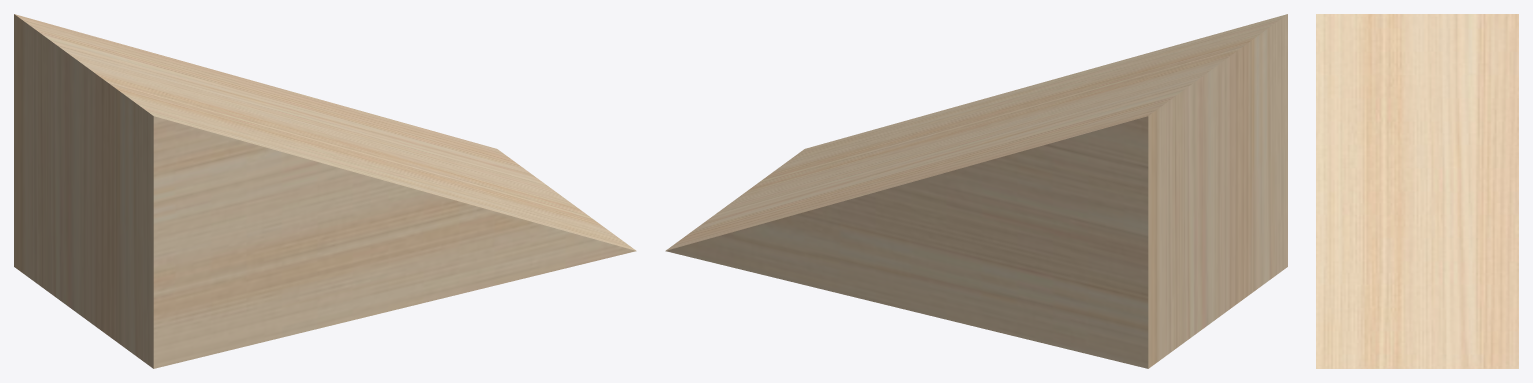
The model's file is muxie.fbx.
The picture shows the model from 3 angles, left to right: view 1: azimuth 30°, elevation 25°; view 2: azimuth 150°, elevation 25°; view 3: azimuth 270°, elevation 25°; orthographic projection. The views are drawn at different scales.
Visible parts, largest first — view 1: Mesh; view 2: Mesh; view 3: Mesh.
Part boxes in pixels (x1,y1,x2,y2): Mesh: (14, 14, 636, 368); Mesh: (665, 14, 1287, 368); Mesh: (1316, 14, 1518, 368).
Size of the model in its own units: 7 by 3.5 by 3.5.
1 material, 1 textured.
